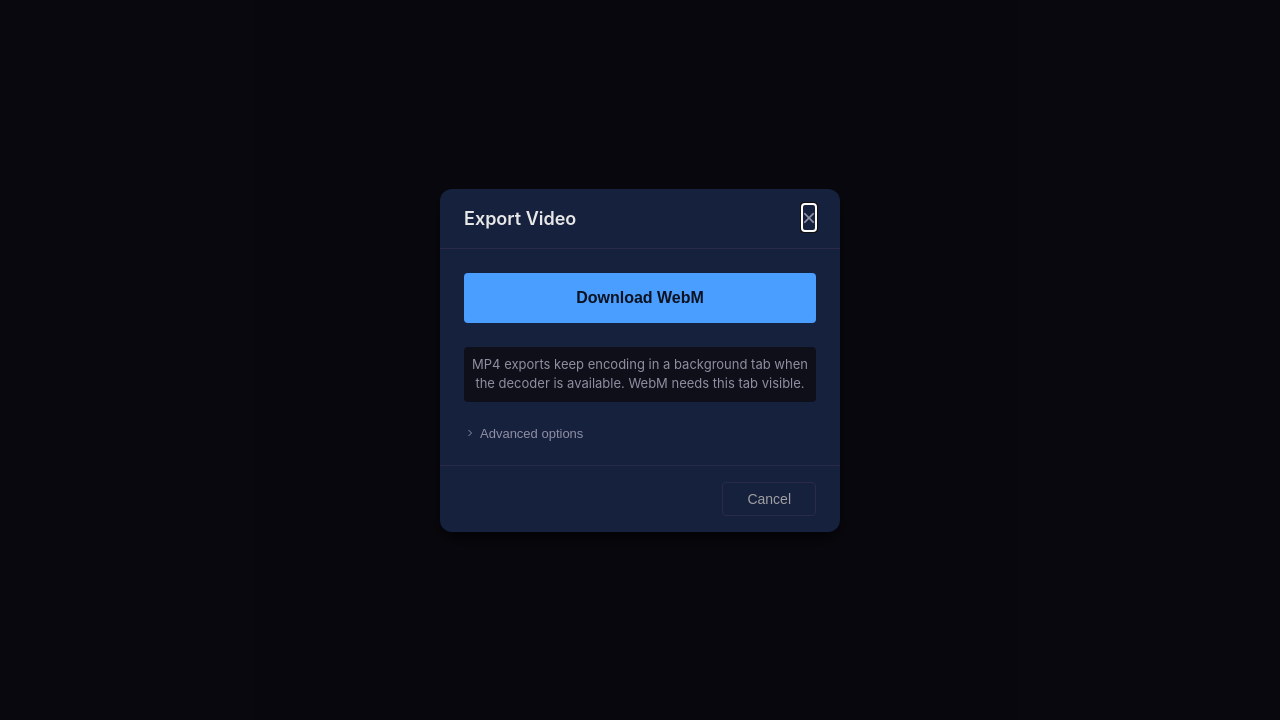
Test: ExportDialog › rendering › moves the selection between the format radios
Click the button "Advanced options" at (532, 433), box top-left (464, 426), bottom-right (816, 440)
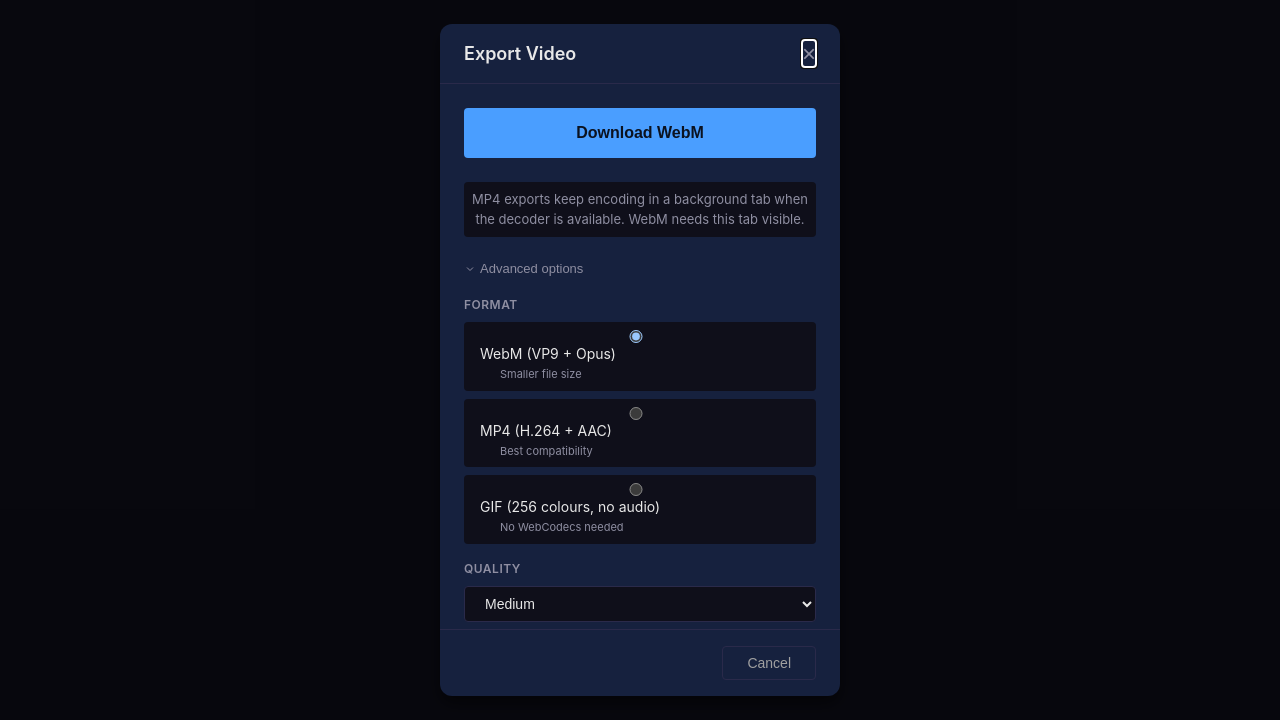
expect the radio button labelled "WebM (VP9 + Opus) Smaller file size" is checked: met, box top-left (480, 330), bottom-right (792, 343)
Click the radio button labelled "MP4 (H.264 + AAC) Best compatibility" at (636, 413), box top-left (480, 406), bottom-right (792, 420)
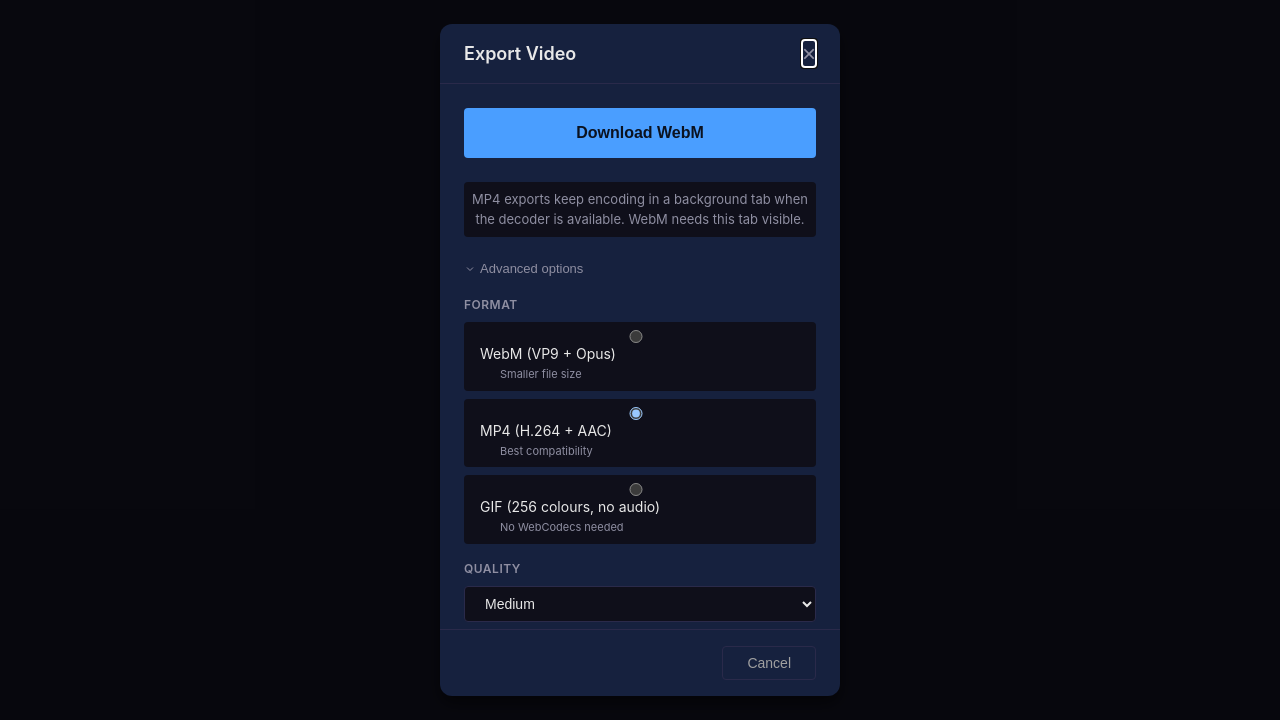
expect the radio button labelled "MP4 (H.264 + AAC) Best compatibility" is checked: met, box top-left (480, 406), bottom-right (792, 420)
expect the radio button labelled "WebM (VP9 + Opus) Smaller file size" is not checked: met, box top-left (480, 330), bottom-right (792, 343)
